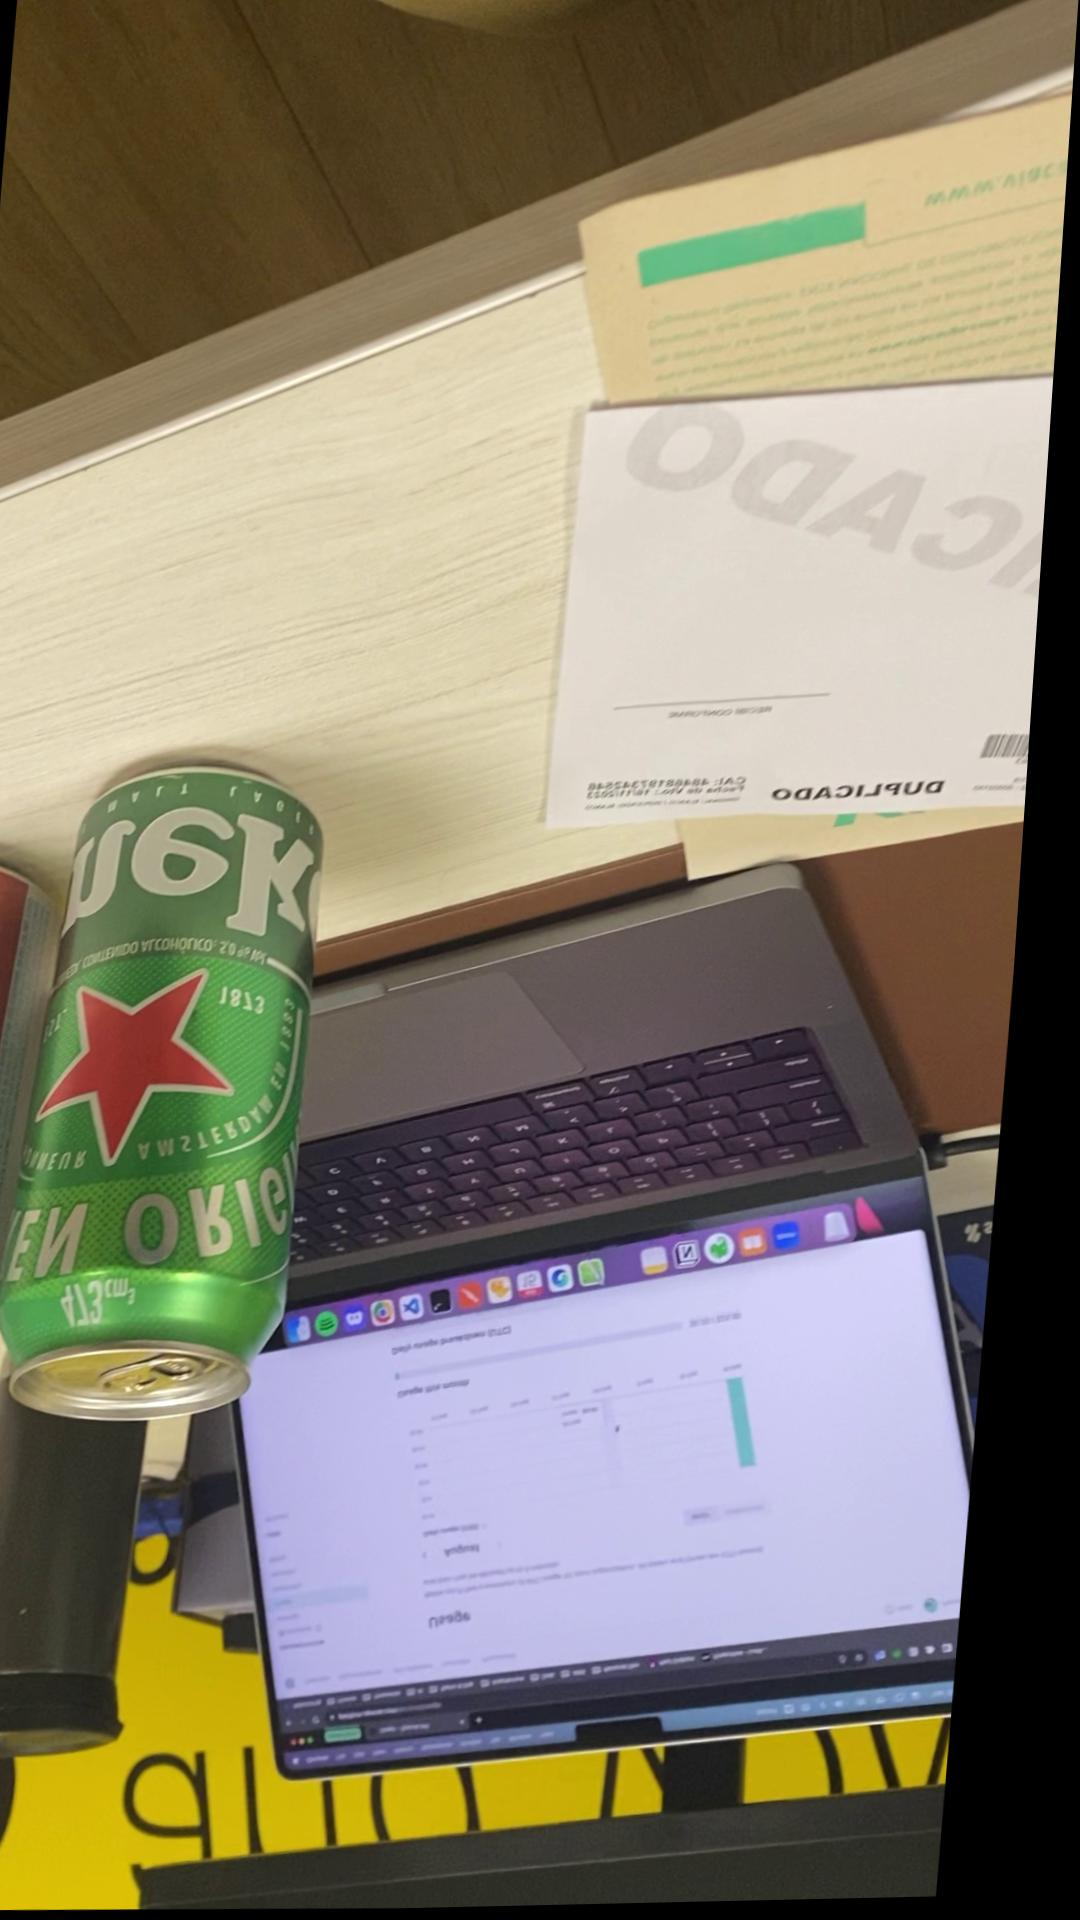metal: (0, 766, 323, 1423), (0, 861, 61, 1294)
